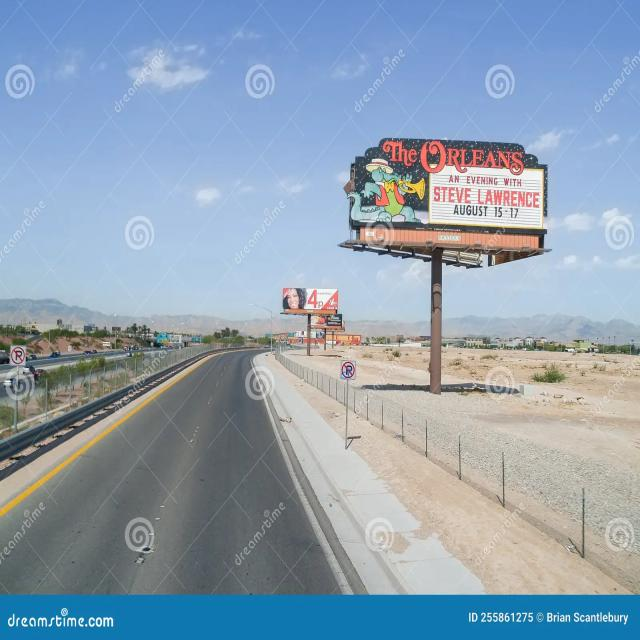Billboard_RHS: (334, 116, 559, 272)
Billboard_overhead_small: (281, 284, 344, 324)
Billboards: (4, 327, 30, 377)
Roadcorner: (0, 347, 226, 524), (248, 354, 366, 597)
Roadlane: (102, 361, 234, 598)
